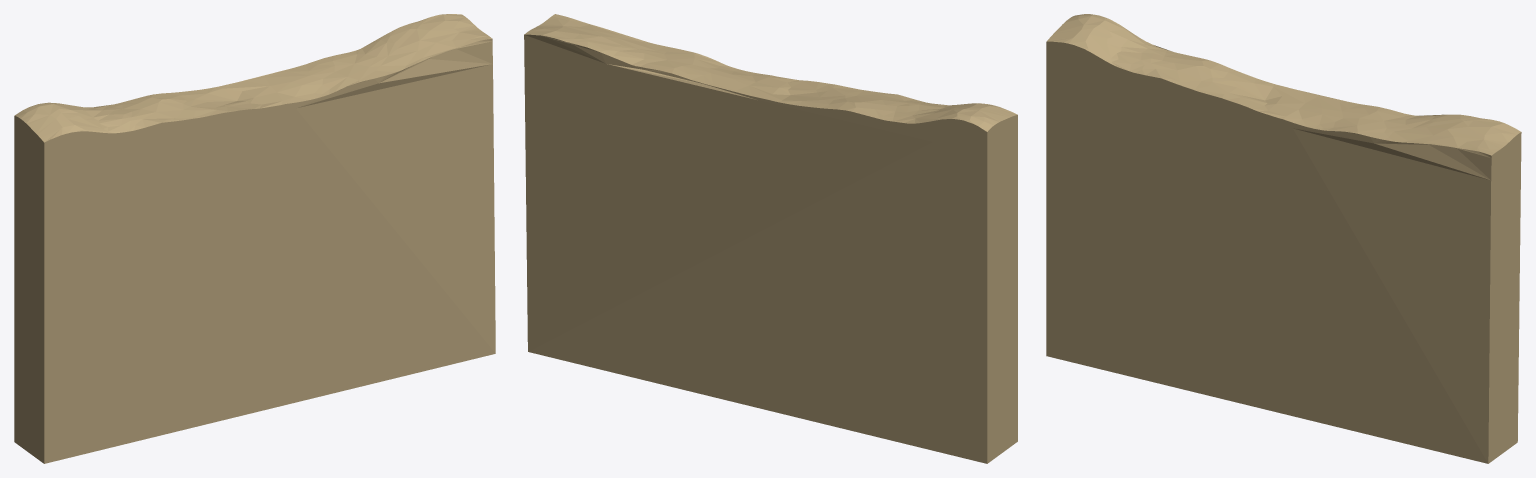
The model's file is Ground.fbx.
3 views of the same model, side by side, from view 1: azimuth 30°, elevation 25°; view 2: azimuth 150°, elevation 25°; view 3: azimuth 330°, elevation 25° (orthographic). The views are drawn at different scales.
Parts seen in each view (by area): view 1: pCube7; view 2: pCube7; view 3: pCube7.
Boxes of the visible parts, <box> form: pCube7: <box>14,14,495,463</box>; pCube7: <box>524,14,1017,463</box>; pCube7: <box>1046,14,1521,463</box>.
Bounding box in the file's own units: 420 × 296 × 55.63.
